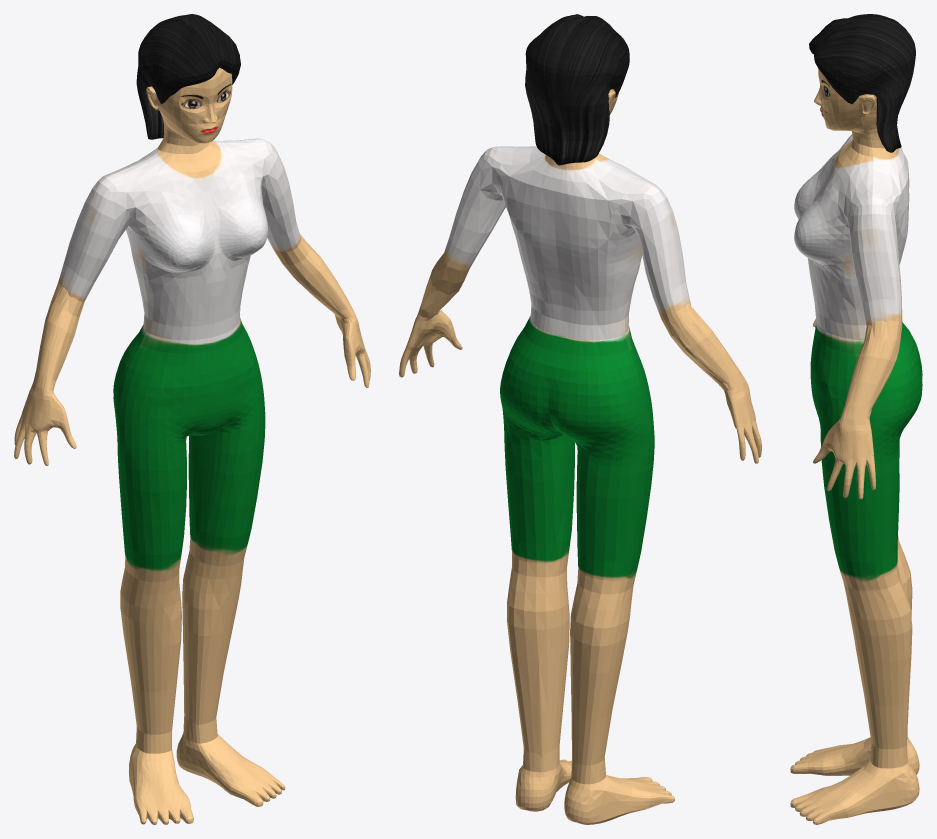
The model's file is Lass.obj.
3 views of the same model, side by side, from view 1: azimuth 30°, elevation 25°; view 2: azimuth 150°, elevation 25°; view 3: azimuth 270°, elevation 25° (orthographic).
Visible parts, largest first — view 1: Cube.001_Cube.002, Cylinder_Cylinder.001; view 2: Cube.001_Cube.002, Cylinder_Cylinder.001; view 3: Cube.001_Cube.002, Cylinder_Cylinder.001.
Boxes of the visible parts, box(x1,y1,x2,y2) form: Cube.001_Cube.002: box(14, 67, 370, 824); Cylinder_Cylinder.001: box(136, 14, 240, 139); Cube.001_Cube.002: box(399, 89, 761, 824); Cylinder_Cylinder.001: box(525, 14, 629, 165); Cube.001_Cube.002: box(790, 68, 922, 824); Cylinder_Cylinder.001: box(809, 14, 915, 152).
Bounding box in the file's own units: 8.21 × 17.11 × 2.65.
Materials: 2 (2 with a texture image).
